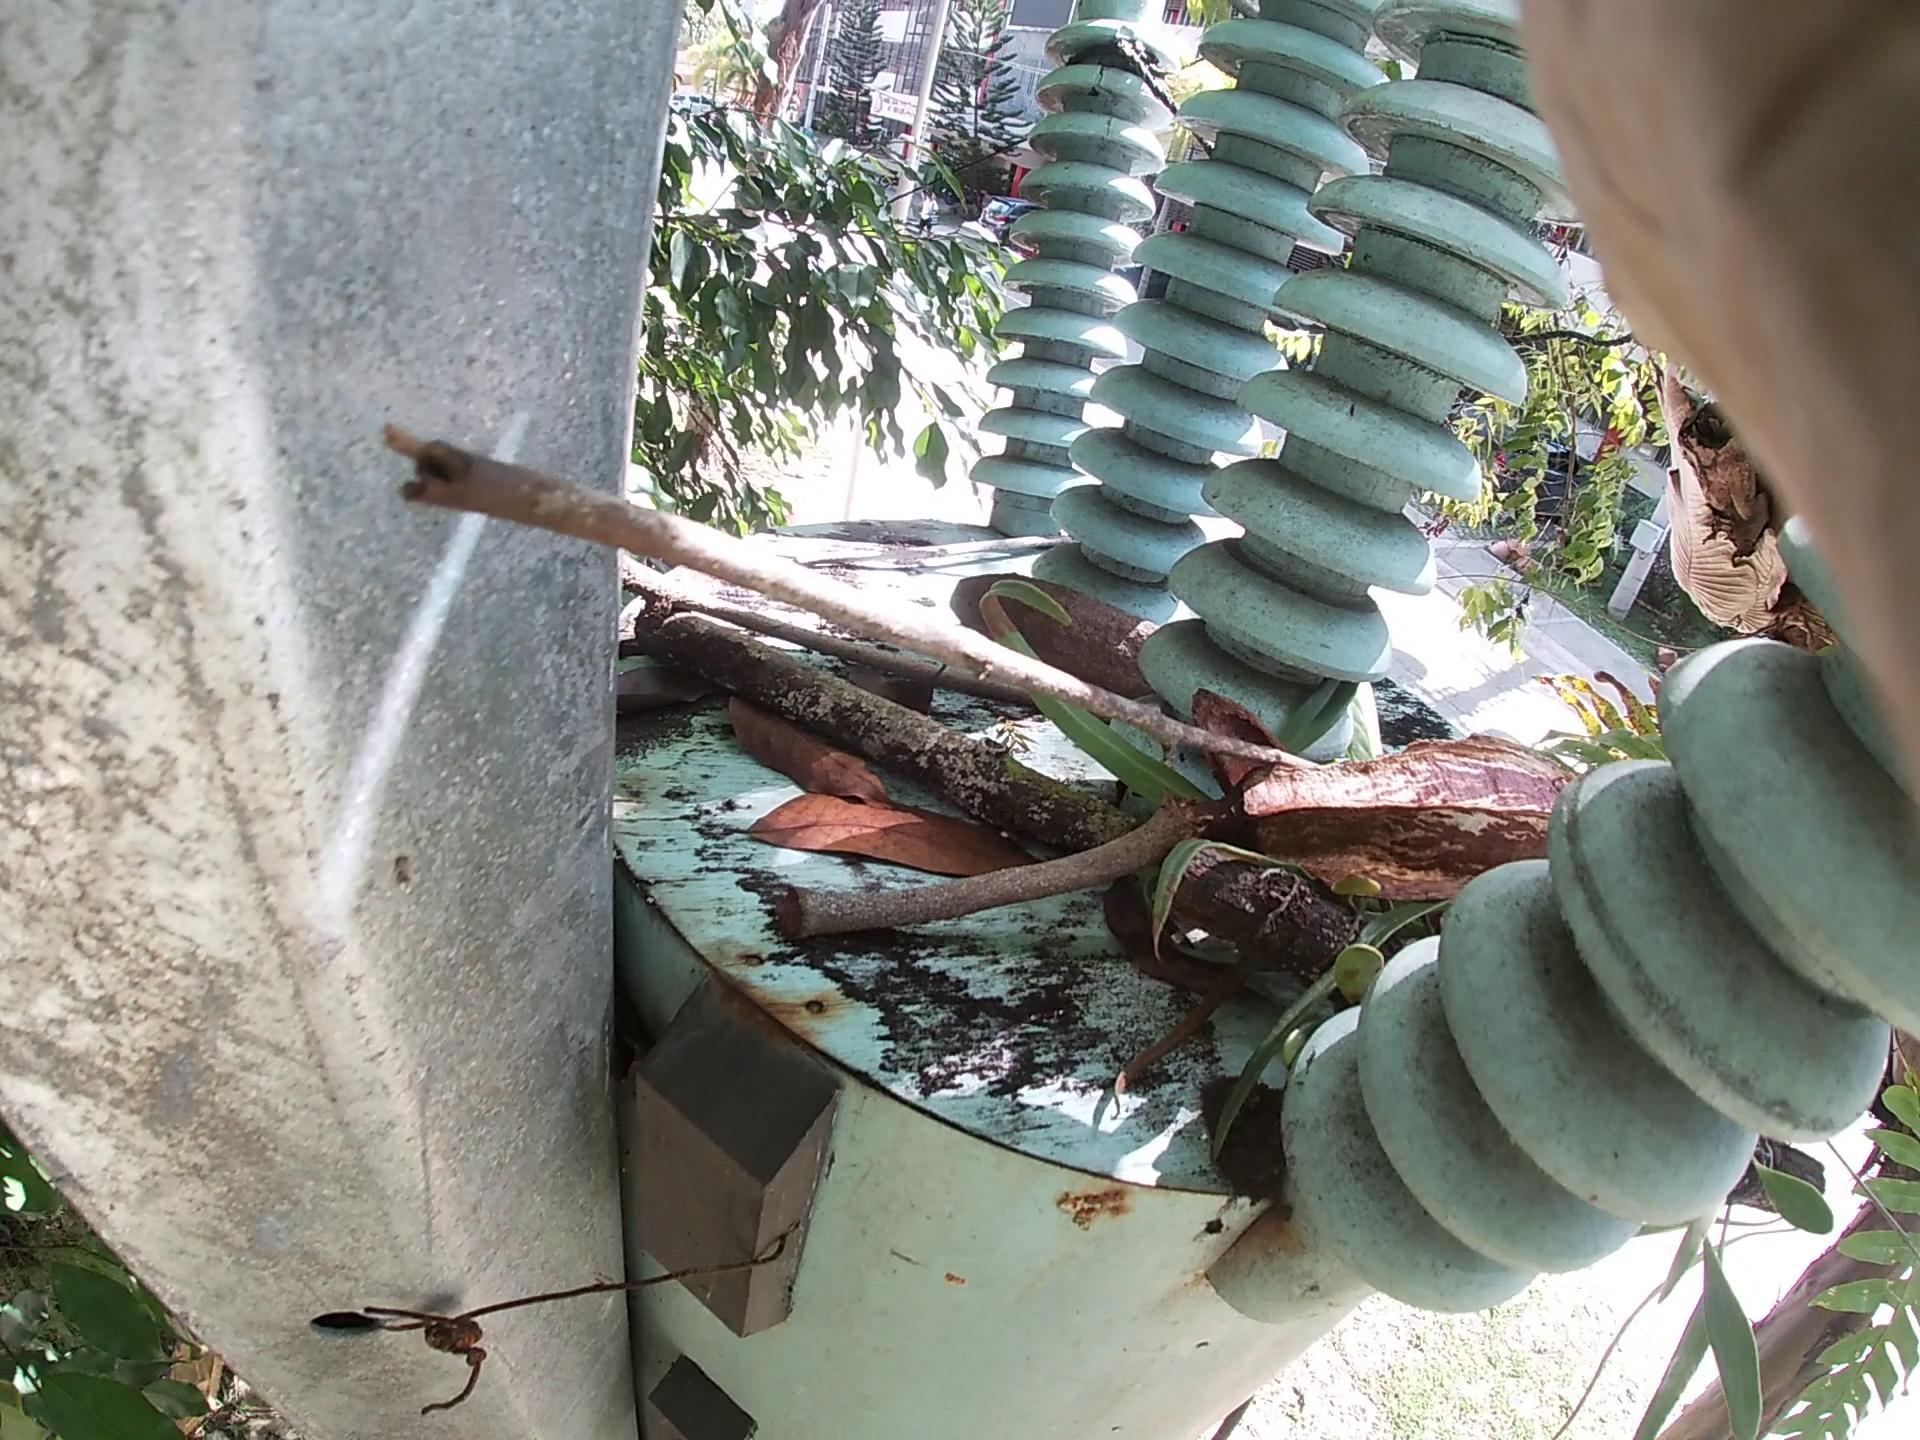branch with leaves: (674, 564, 1619, 1050)
leaf: (735, 682, 1008, 953), (584, 620, 692, 729)
mahogany fruit: (1200, 694, 1621, 923), (945, 523, 1152, 703), (1154, 629, 1274, 790)
tree branch: (405, 461, 1308, 746), (792, 806, 1209, 936), (636, 579, 1043, 709), (745, 514, 1113, 563)
